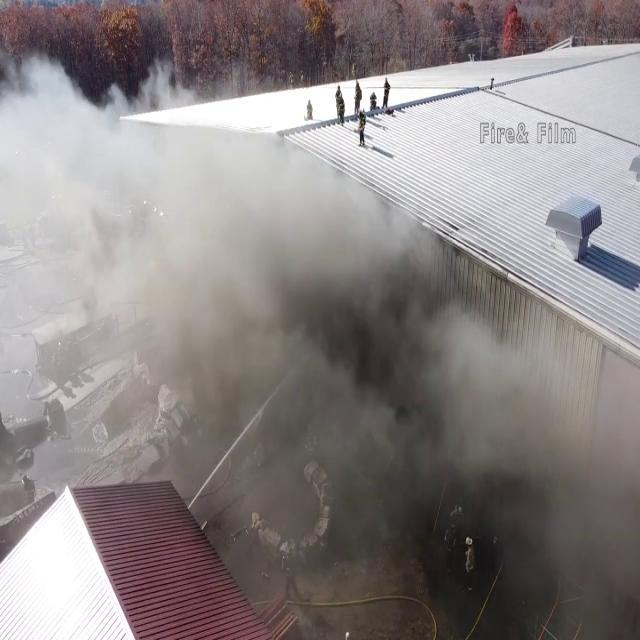Smoke: (1, 107, 602, 502)
